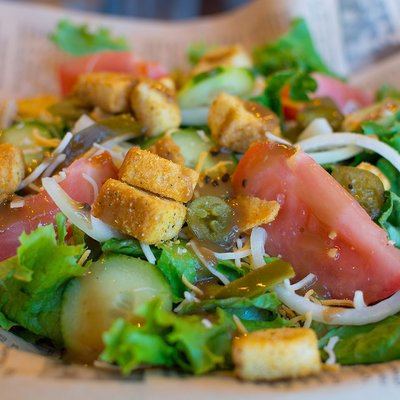curry: (95, 296, 237, 377)
